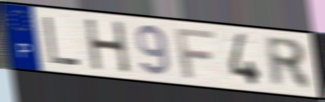4: (228, 31, 264, 88)
9: (134, 23, 173, 78)
F: (173, 27, 217, 81)
H: (82, 18, 133, 75)
L: (41, 15, 83, 68)
R: (262, 34, 315, 93)
